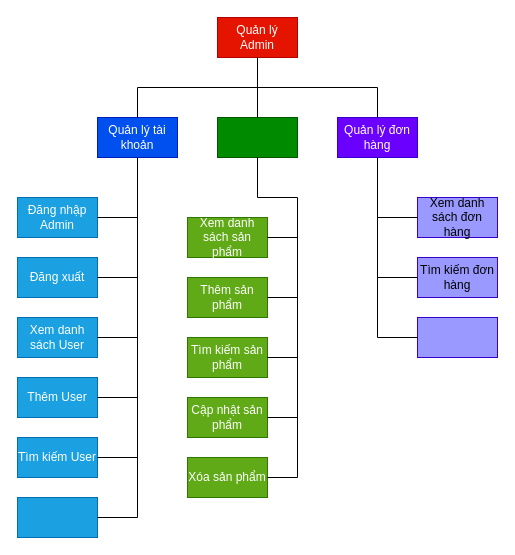
Some shapes in this 515 by 555 pixel diagram are drawn without their labels. Here are the shapes that lost their labels. From the top down, the box of each, then its label:
(216, 116, 298, 158): Quản lý sản phẩm
(416, 316, 498, 358): Cập nhật đơn hàng
(16, 496, 98, 538): Cập nhật User
